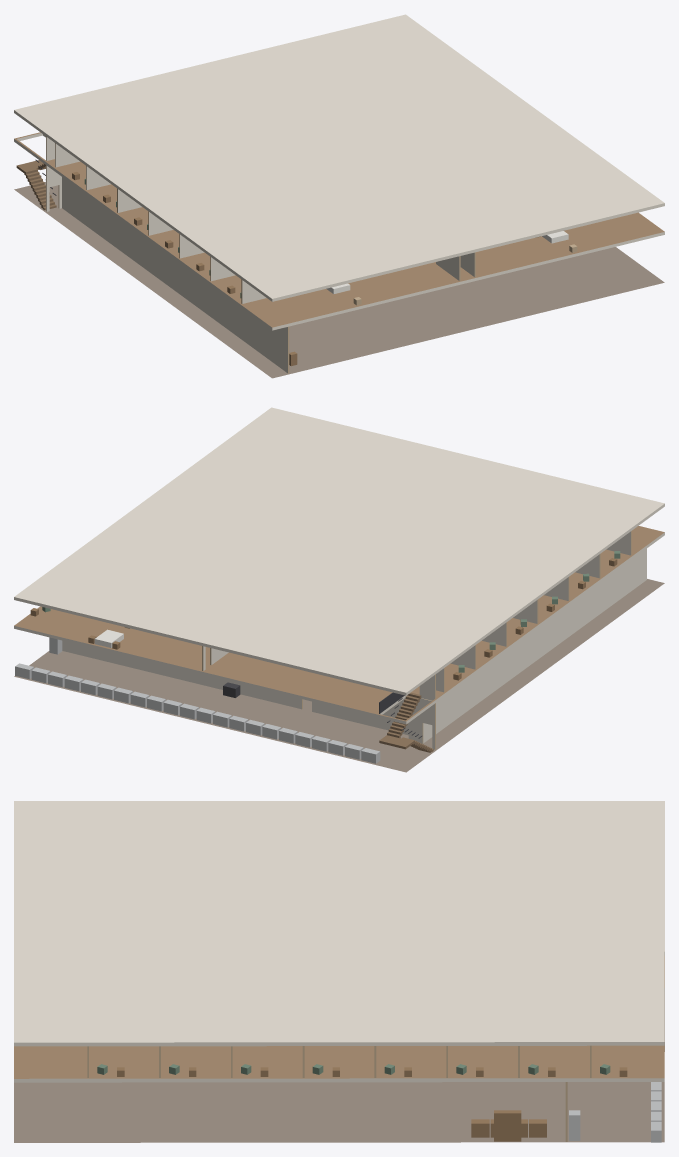
The model's file is interior.glb.
3 renders of one model, top to bottom at view 1: azimuth 30°, elevation 25°; view 2: azimuth 150°, elevation 25°; view 3: azimuth 270°, elevation 25°, orthographic. The views are drawn at different scales.
Parts seen in each view (by area): view 1: slabs, partitions, coarse-s1, stair; view 2: slabs, partitions, coarse-s0, stair, coarse-s1; view 3: slabs, coarse-s0, coarse-s1, partitions.
Boxes of the visible parts, x1,y1,x2,y2 form: slabs: (14,14,664,378); partitions: (46,136,475,373); coarse-s1: (72,172,577,305); stair: (16,159,56,210); slabs: (14,407,664,772); partitions: (62,531,646,749); coarse-s0: (15,637,380,763); stair: (379,692,433,752); coarse-s1: (30,551,620,680); slabs: (14,801,664,1142); coarse-s0: (471,1082,661,1142); coarse-s1: (97,1064,627,1076); partitions: (87,1045,591,1141).
Bounding box in the file's own units: 35.8 × 6.95 × 40.77.
